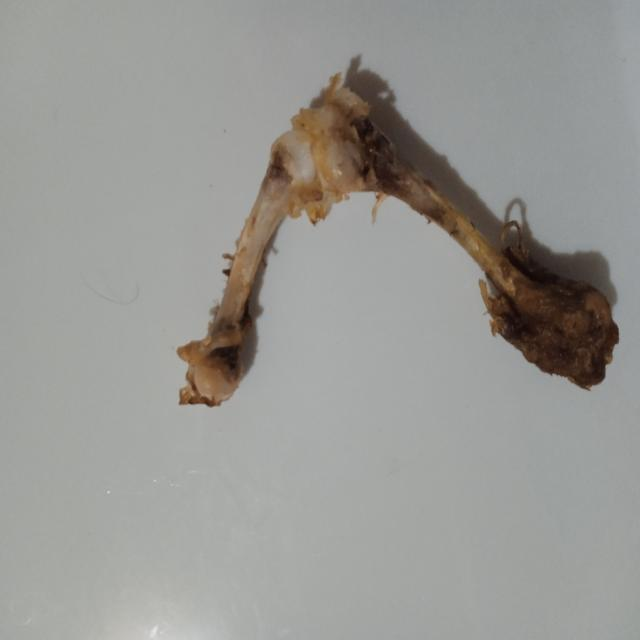bone: (160, 43, 640, 446)
